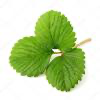Strawberry leaf: (8, 34, 53, 78), (45, 46, 87, 93), (33, 9, 76, 52)
